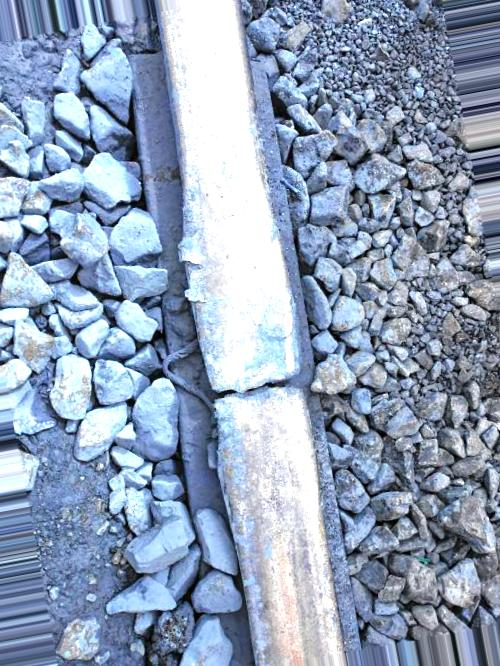tracks_fault: (165, 219, 326, 492)
